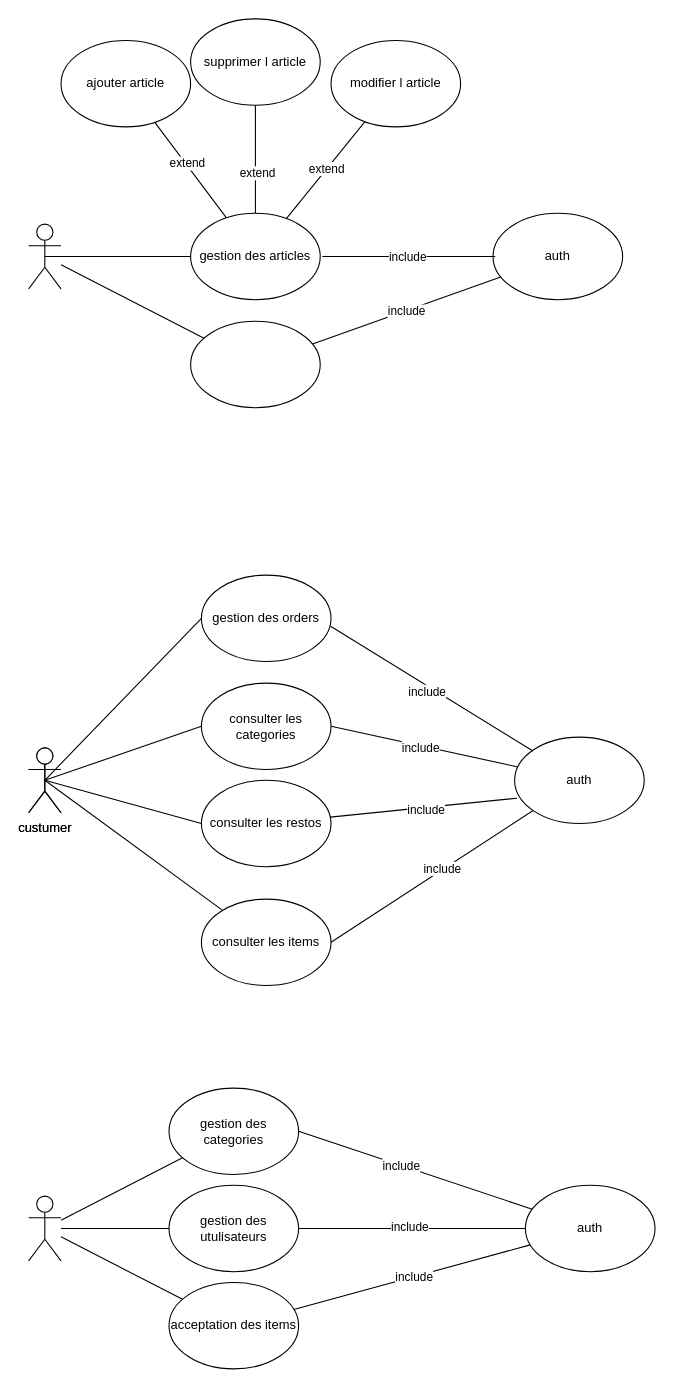
This 674x1388 diagram has some shape labels left out. Each missing label, with the centre of its shape:
"acceptation des orders" goes at pixel 255 364.
"admin" goes at pixel 44 1228.
"resto" goes at pixel 44 256.
